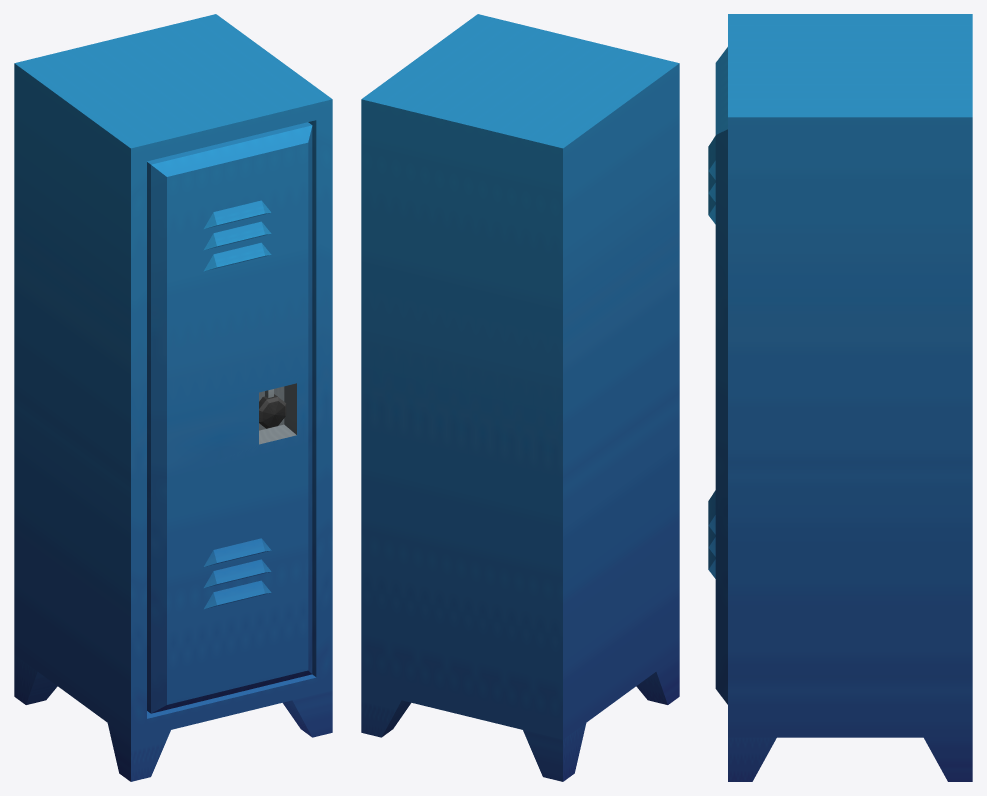
Rendered from locker-decorated.glb.
The picture shows the model from 3 angles, left to right: view 1: azimuth 30°, elevation 25°; view 2: azimuth 150°, elevation 25°; view 3: azimuth 270°, elevation 25°; orthographic projection. The views are drawn at different scales.
Visible parts, largest first — view 1: Locker_Decorated, Locker_Door_Decorated; view 2: Locker_Decorated; view 3: Locker_Decorated, Locker_Door_Decorated.
Boxes of the visible parts, x1,y1,x2,y2 form: Locker_Decorated: (14,14,332,781); Locker_Door_Decorated: (147,122,312,713); Locker_Decorated: (361,14,679,781); Locker_Decorated: (728,14,972,781); Locker_Door_Decorated: (708,47,727,704).
Bounding box in the file's own units: 1 × 3 × 1.08.
1 material, 1 textured.
